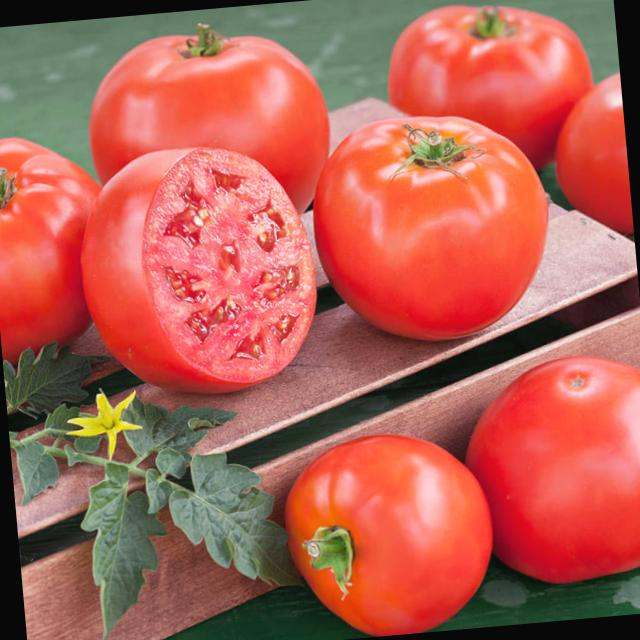tomato: (312, 109, 554, 346), (287, 422, 497, 640)
